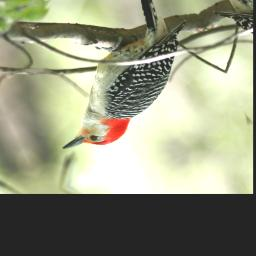Woodpecker: (3, 0, 225, 158)
